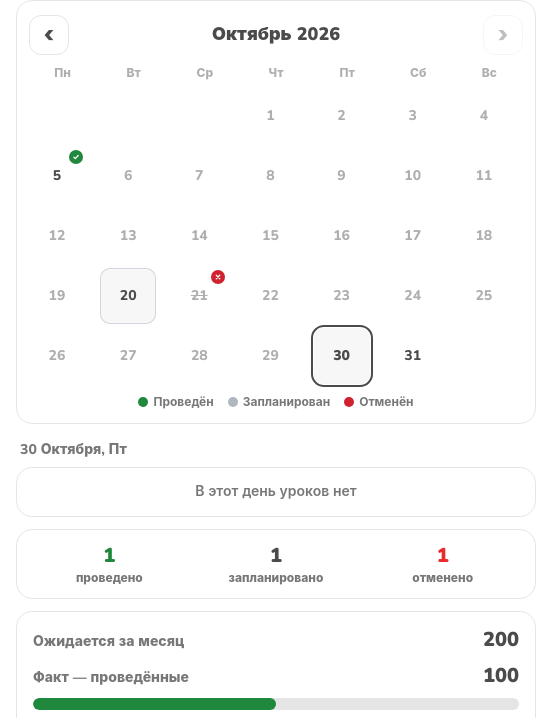
Test: LessonCalendar › преподаватель: «Ожидается» и «Факт» за месяц, «Потеряно»; «Проведён» отмечает урок
What coordinates should you click on to do the following:
click the button with class "day" showing "20"
I would click on:
 (128, 296)
Its box is [100, 268, 156, 324].
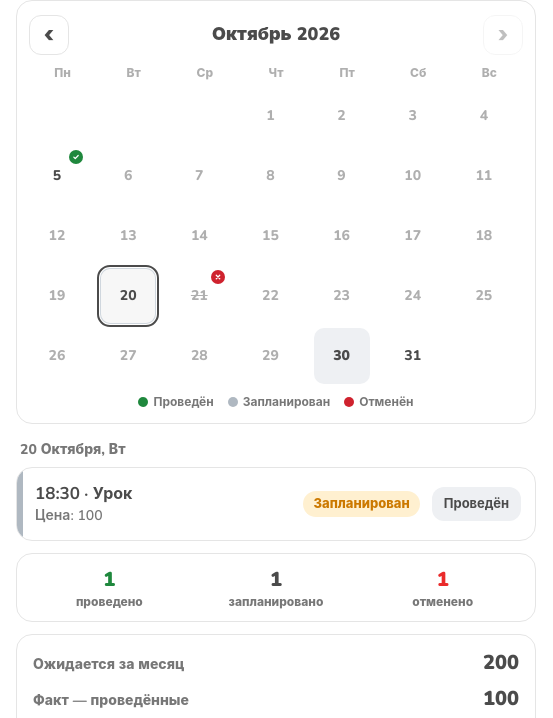
What coordinates should you click on to do the following:
click the button "Проведён"
I would click on:
 (476, 504)
Its box is [432, 487, 521, 521].
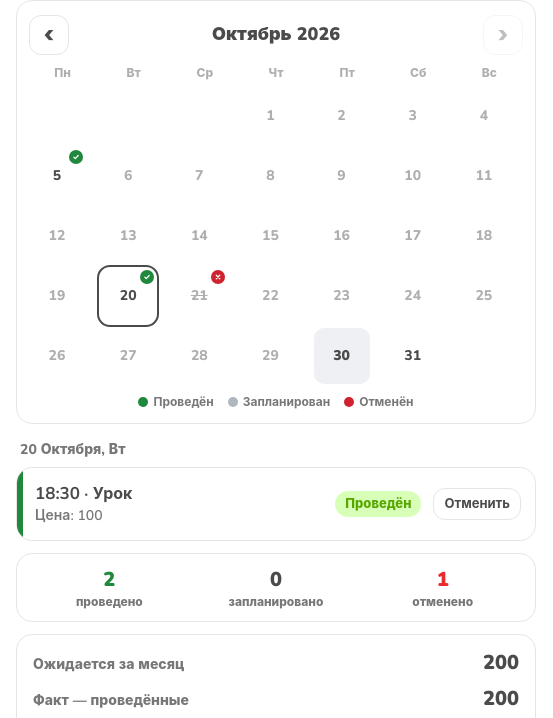
What coordinates should you click on to do the following:
click the button with class "day" showing "21"
I would click on:
 (199, 296)
Its box is [171, 268, 227, 324].
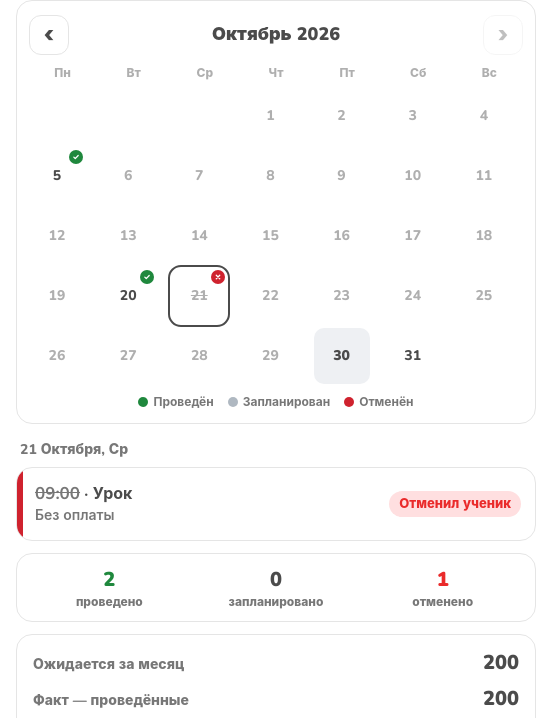
Expected: the element showing "09:00 · Урок Без оплаты Отменил ученик" is shown, [16, 467, 536, 541]
